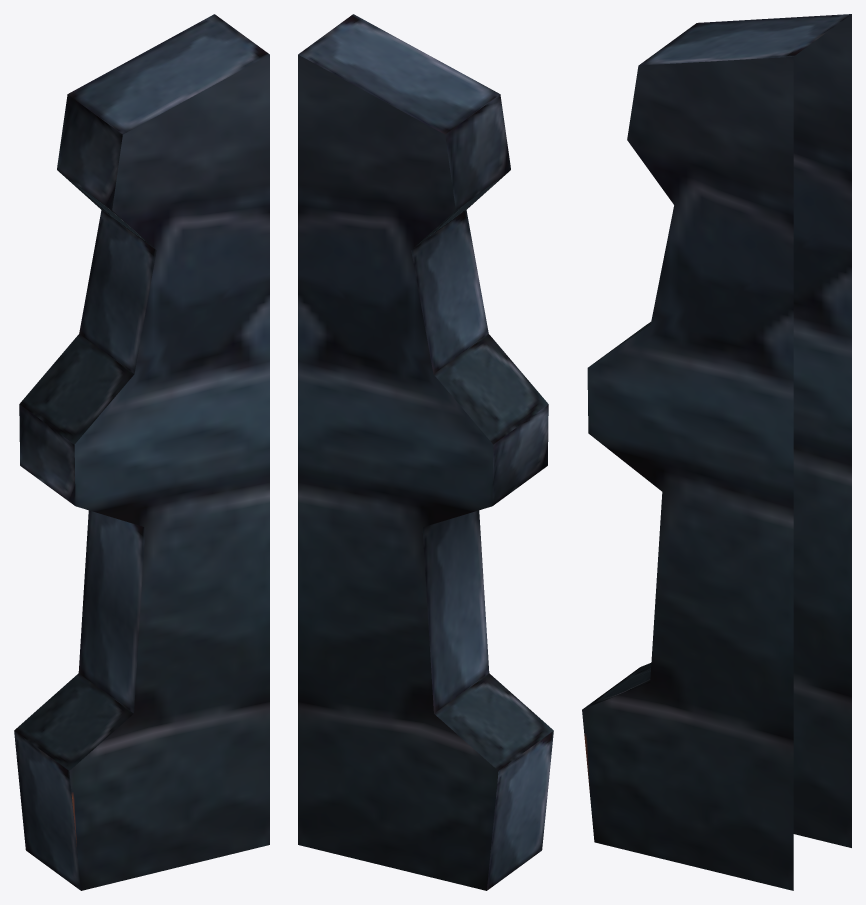
The model's file is LowWall_Cap_A.fbx.
3 views of the same model, side by side, from view 1: azimuth 30°, elevation 25°; view 2: azimuth 150°, elevation 25°; view 3: azimuth 330°, elevation 25° (orthographic). The views are drawn at different scales.
Visible parts, largest first — view 1: LowWall_Cap_A; view 2: LowWall_Cap_A; view 3: LowWall_Cap_A.
Boxes of the visible parts, box(x1,y1,x2,y2) form: LowWall_Cap_A: box(14, 14, 269, 890); LowWall_Cap_A: box(298, 14, 553, 890); LowWall_Cap_A: box(582, 14, 851, 890).
Bounding box in the file's own units: 16.13 × 60.77 × 7.71.
1 material, 1 textured.
